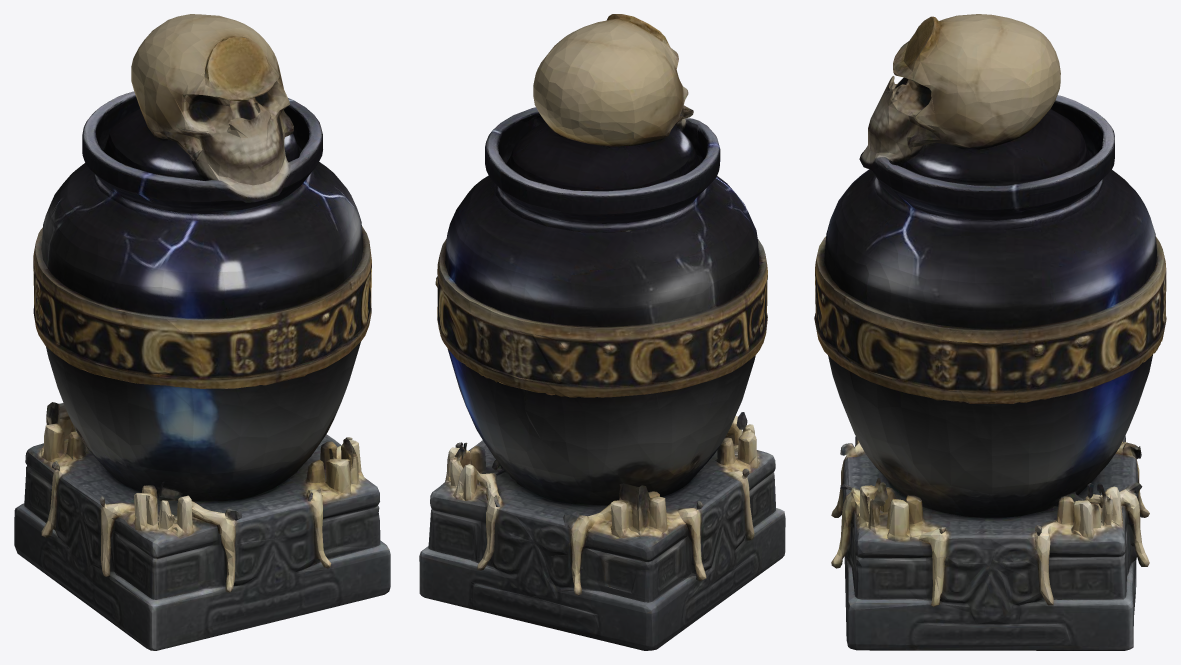
The model's file is soulJar.glb.
The picture shows the model from 3 angles, left to right: view 1: azimuth 30°, elevation 25°; view 2: azimuth 150°, elevation 25°; view 3: azimuth 270°, elevation 25°; orthographic projection. The views are drawn at different scales.
Parts seen in each view (by area): view 1: world; view 2: world; view 3: world.
Boxes of the visible parts, x1=… form: world: x1=14, y1=14, x2=390, y2=650; world: x1=419, y1=14, x2=785, y2=650; world: x1=814, y1=14, x2=1166, y2=650.
Size of the model in its own units: 0.5561 by 0.9983 by 0.5573.
1 material, 1 textured.
